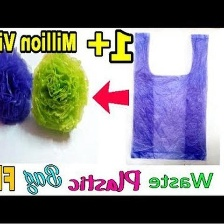plastic_bag: (127, 30, 212, 162)
